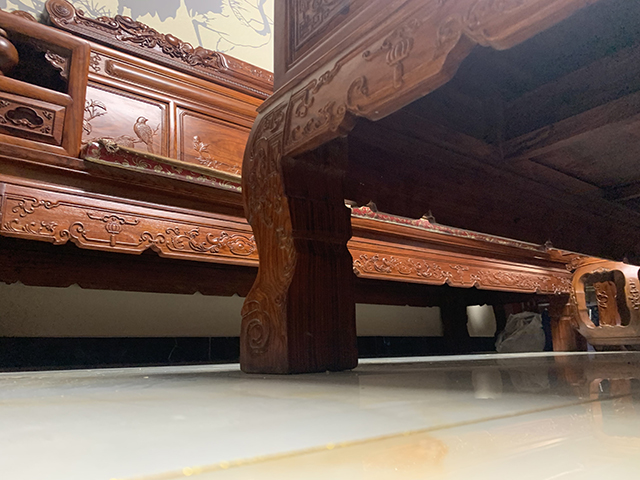sofa: (1, 1, 274, 353)
stool: (564, 255, 640, 353)
table: (237, 1, 640, 374)
